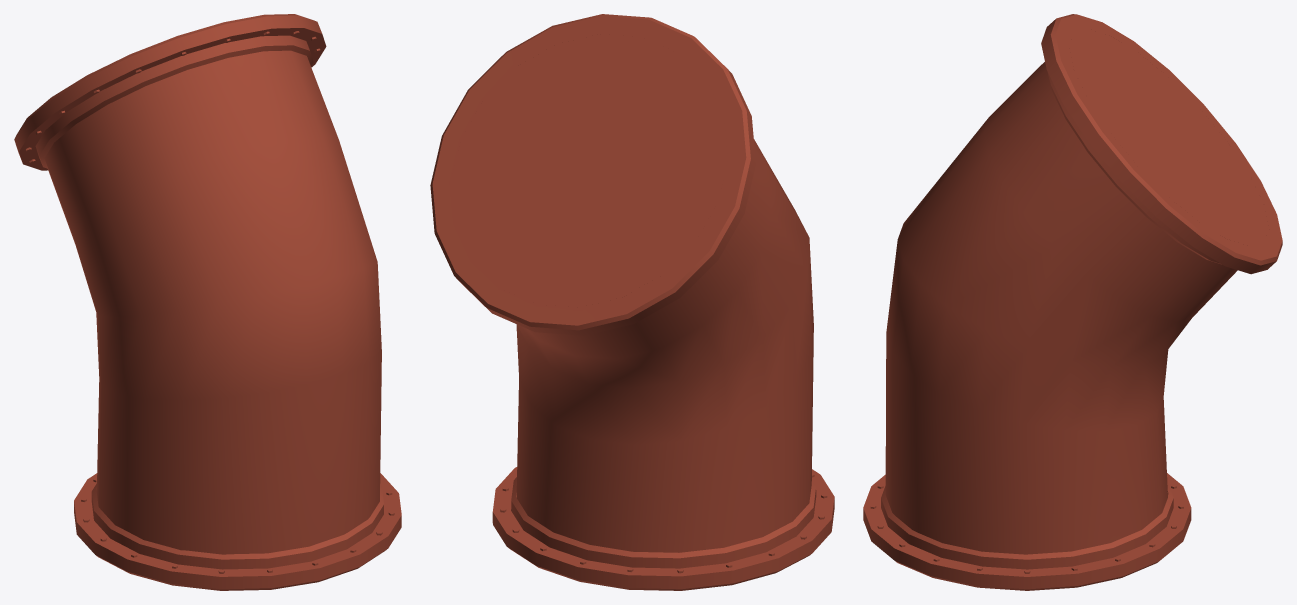
File: Pipe_45.fbx
The picture shows the model from 3 angles, left to right: view 1: azimuth 30°, elevation 25°; view 2: azimuth 150°, elevation 25°; view 3: azimuth 270°, elevation 25°; orthographic projection. The views are drawn at different scales.
Parts seen in each view (by area): view 1: Pipe_94; view 2: Pipe_94; view 3: Pipe_94.
Part boxes in pixels (left/top/right/bottom): Pipe_94: left=14, top=14, right=401, bottom=590; Pipe_94: left=430, top=14, right=834, bottom=590; Pipe_94: left=863, top=14, right=1282, bottom=590.
Bounding box in the file's own units: 0.5785 × 0.9502 × 0.7395.
